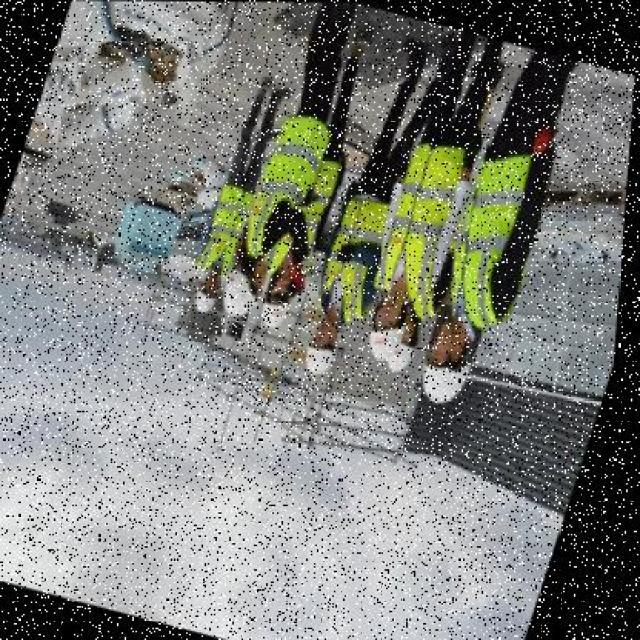helmet: (412, 355, 476, 407), (363, 311, 413, 365), (222, 265, 267, 321), (300, 334, 346, 379), (259, 295, 297, 333), (194, 286, 225, 317)
vest: (432, 139, 562, 335), (366, 136, 476, 301), (238, 105, 334, 264), (308, 185, 404, 325), (193, 177, 262, 282)
